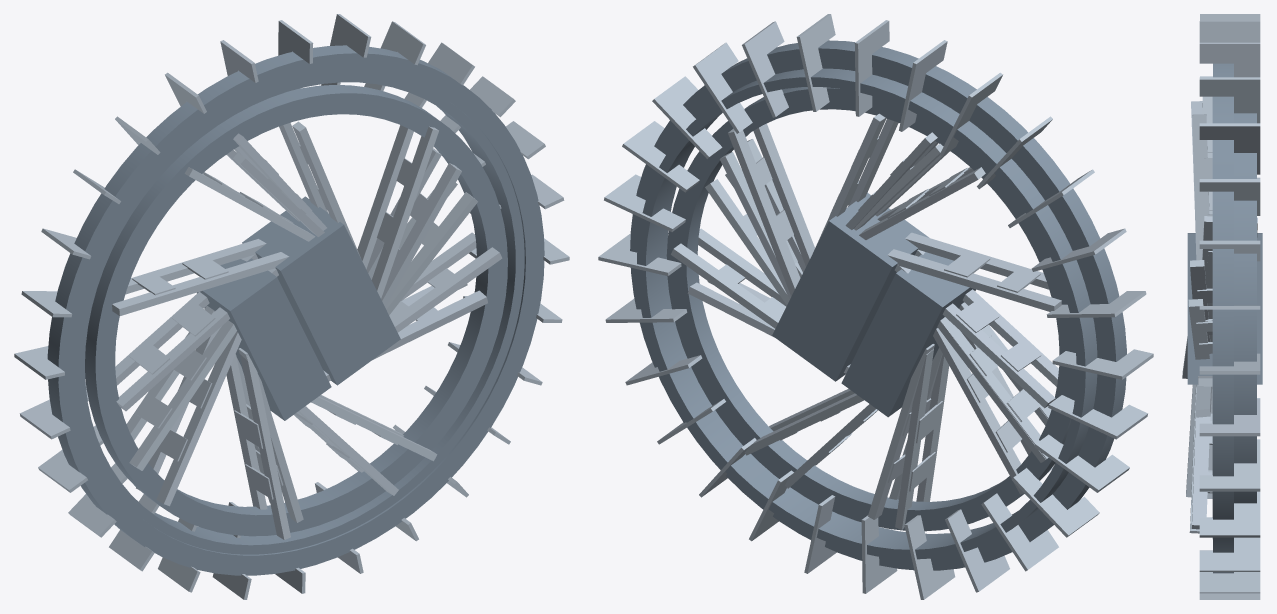
The model's file is Niflheim_Steel_Water_Wheel.glb.
3 renders of one model, left to right at view 1: azimuth 30°, elevation 25°; view 2: azimuth 150°, elevation 25°; view 3: azimuth 270°, elevation 25°, orthographic. The views are drawn at different scales.
Visible parts, largest first — view 1: Steel Water Wheel — rabiiwattar1; view 2: Steel Water Wheel — rabiiwattar1; view 3: Steel Water Wheel — rabiiwattar1.
Boxes of the visible parts, x1=… form: Steel Water Wheel — rabiiwattar1: x1=14, y1=14, x2=569, y2=599; Steel Water Wheel — rabiiwattar1: x1=598, y1=14, x2=1153, y2=599; Steel Water Wheel — rabiiwattar1: x1=1182, y1=14, x2=1262, y2=599.
Bounding box in the file's own units: 6 × 6 × 0.8218.
